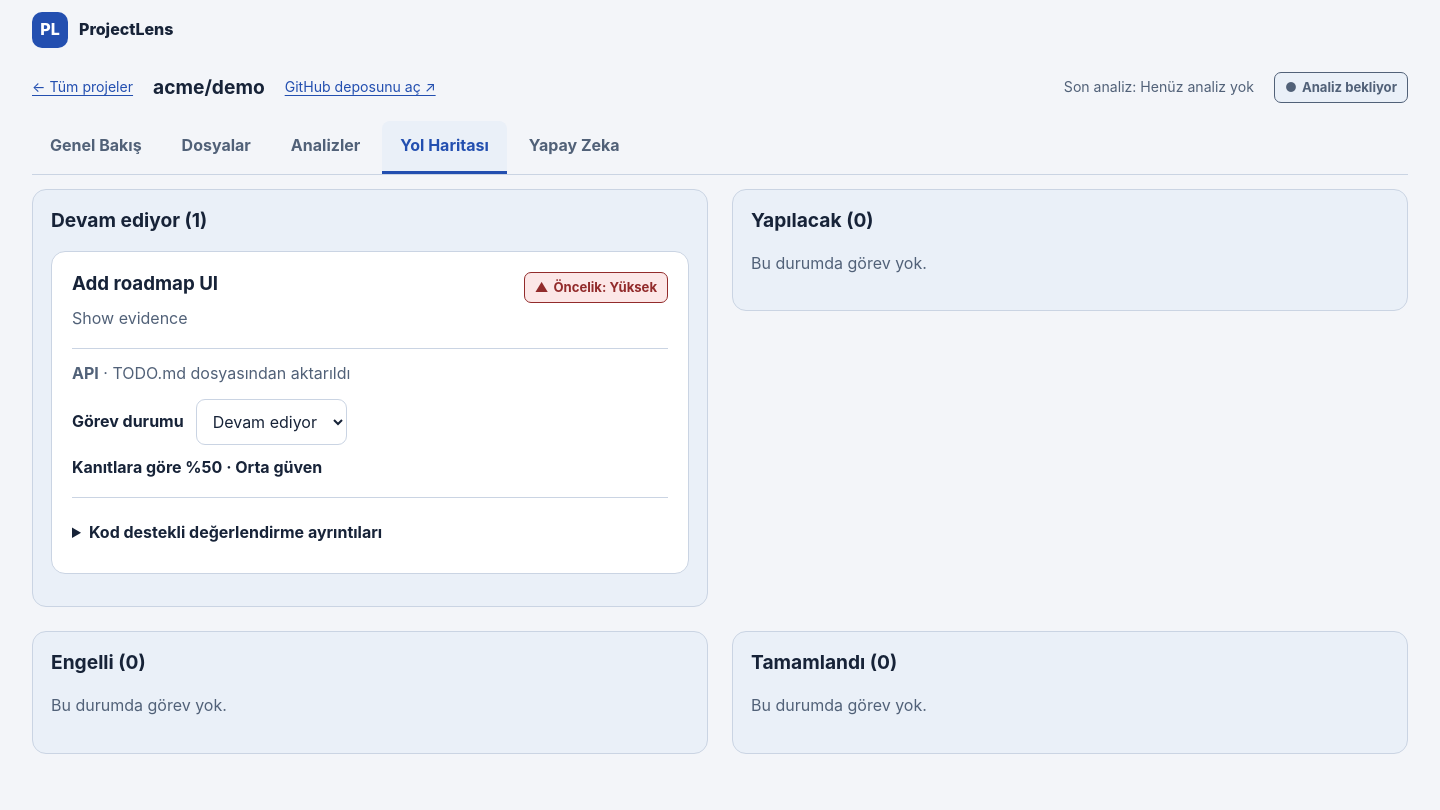
Scenario: project roadmap page › moves a task to the new status group after saving
(page scrolled)
Select "Tamamlandı" in the dropdown labelled "Görev durumu" at [271, 422], box [196,399,347,445]
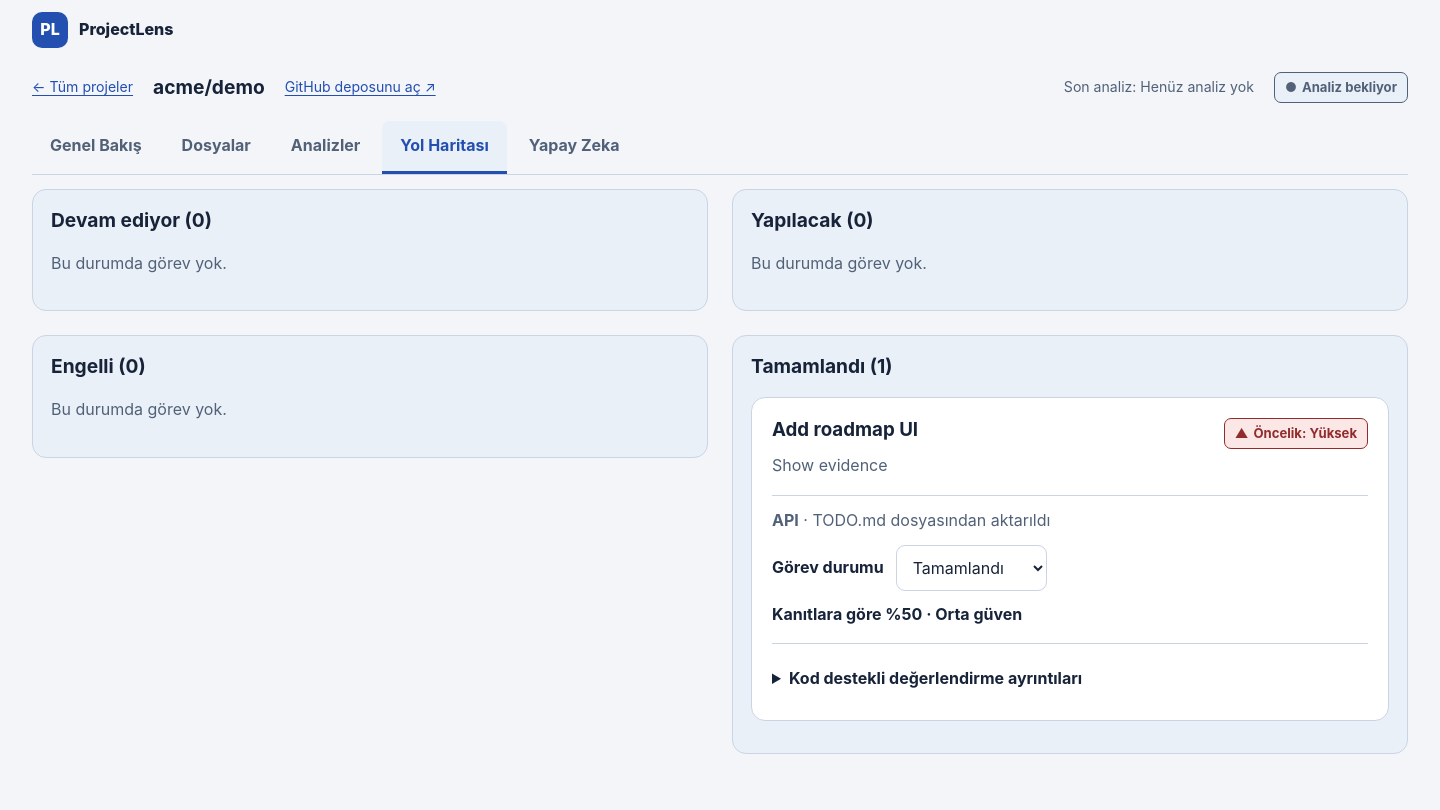
Now the heading "Tamamlandı (1)" is shown, box [751,354,893,378]
Now the heading "Devam ediyor (0)" is shown, box [51,208,212,232]
